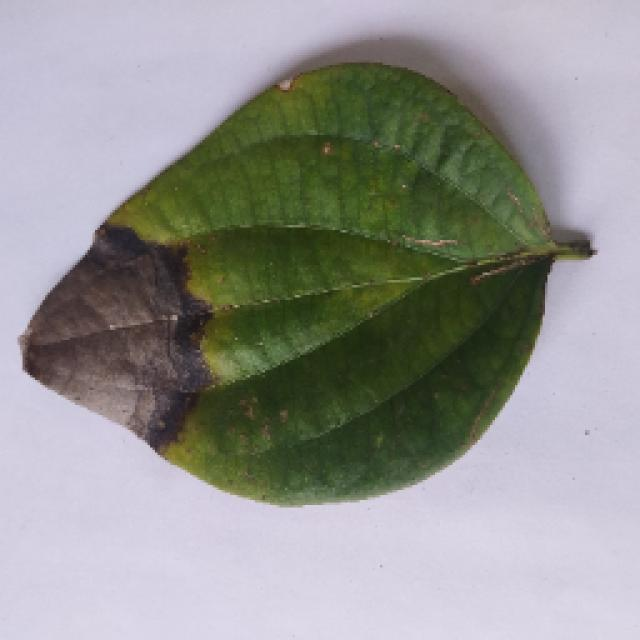footrot: (17, 60, 585, 505)
